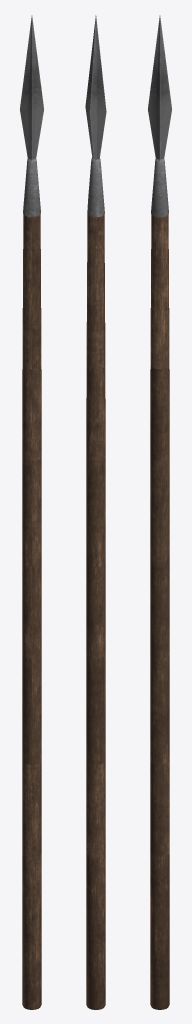
Rendered from Spear.fbx.
The picture shows the model from 3 angles, left to right: view 1: azimuth 90°, elevation 25°; view 2: azimuth 150°, elevation 25°; view 3: azimuth 270°, elevation 25°; orthographic projection.
Parts seen in each view (by area): view 1: Handle, Blade; view 2: Handle, Blade; view 3: Handle, Blade.
Boxes of the visible parts, bbox=[...] form: Handle: bbox=[22, 214, 41, 1009]; Blade: bbox=[20, 15, 43, 216]; Handle: bbox=[86, 214, 105, 1009]; Blade: bbox=[85, 15, 106, 216]; Handle: bbox=[150, 214, 169, 1009]; Blade: bbox=[148, 15, 171, 216].
Bounding box in the file's own units: 4.39 × 197 × 4.39.
Materials: 1 (1 with a texture image).
